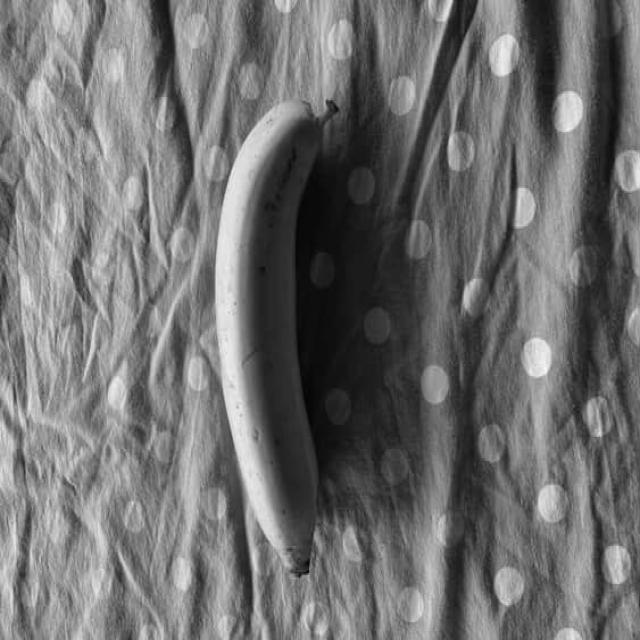Ripe: (188, 69, 364, 590)
